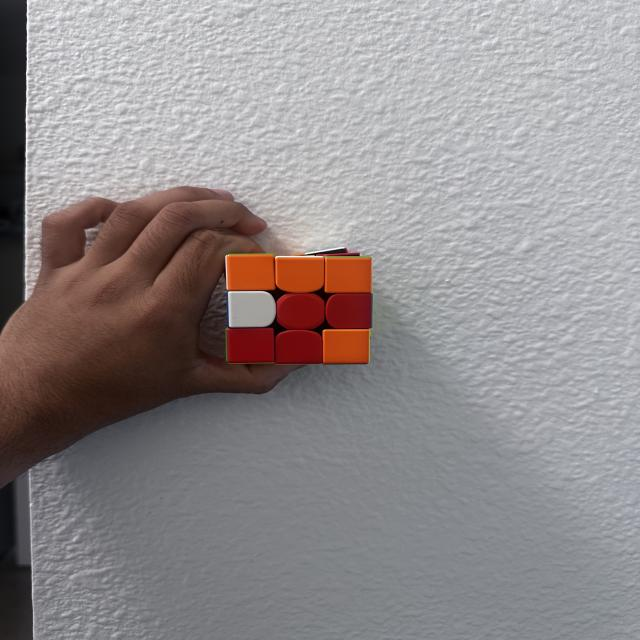sticker: (224, 251, 277, 292), (274, 292, 328, 332), (223, 326, 276, 366), (225, 289, 278, 329), (274, 254, 325, 294), (323, 255, 374, 295), (272, 328, 325, 366), (324, 292, 374, 331), (322, 329, 371, 365)
